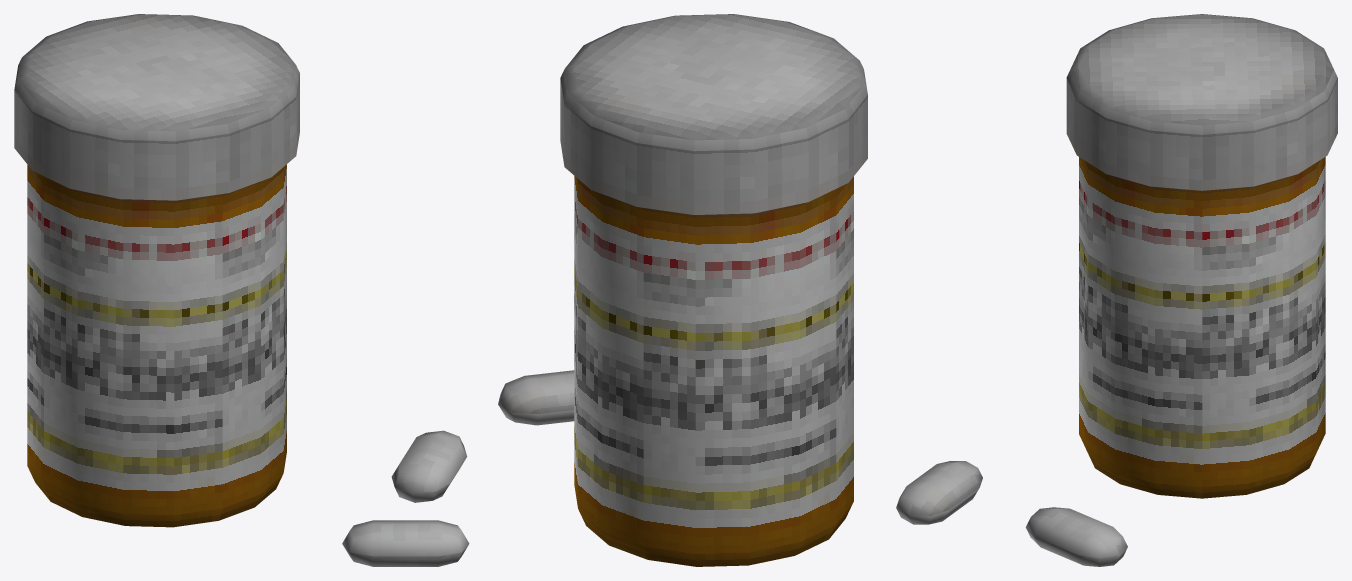
File: pills_bottle_1.obj
3 views of the same model, side by side, from view 1: azimuth 30°, elevation 25°; view 2: azimuth 150°, elevation 25°; view 3: azimuth 270°, elevation 25° (orthographic). The views are drawn at different scales.
Parts seen in each view (by area): view 1: pills_bottle_1; view 2: pills_bottle_1; view 3: pills_bottle_1.
Part boxes in pixels (left/top/right/bottom): pills_bottle_1: left=14, top=14, right=469, bottom=566; pills_bottle_1: left=498, top=14, right=867, bottom=566; pills_bottle_1: left=896, top=14, right=1337, bottom=566.
Size of the model in its own units: 0.1259 by 0.1333 by 0.1354.
